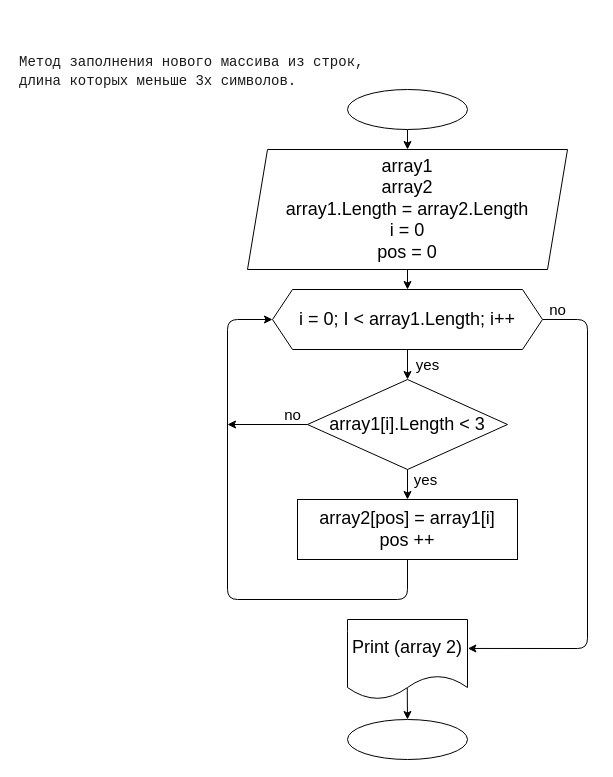
Some shapes in this 613 by 777 pixel diagram are drawn without their labels. The shapes that lost their labels are listed below. From the top down, each one's centre as x and y in pixels, then its label:
At point (407, 109): "start".
At point (407, 739): "End".
